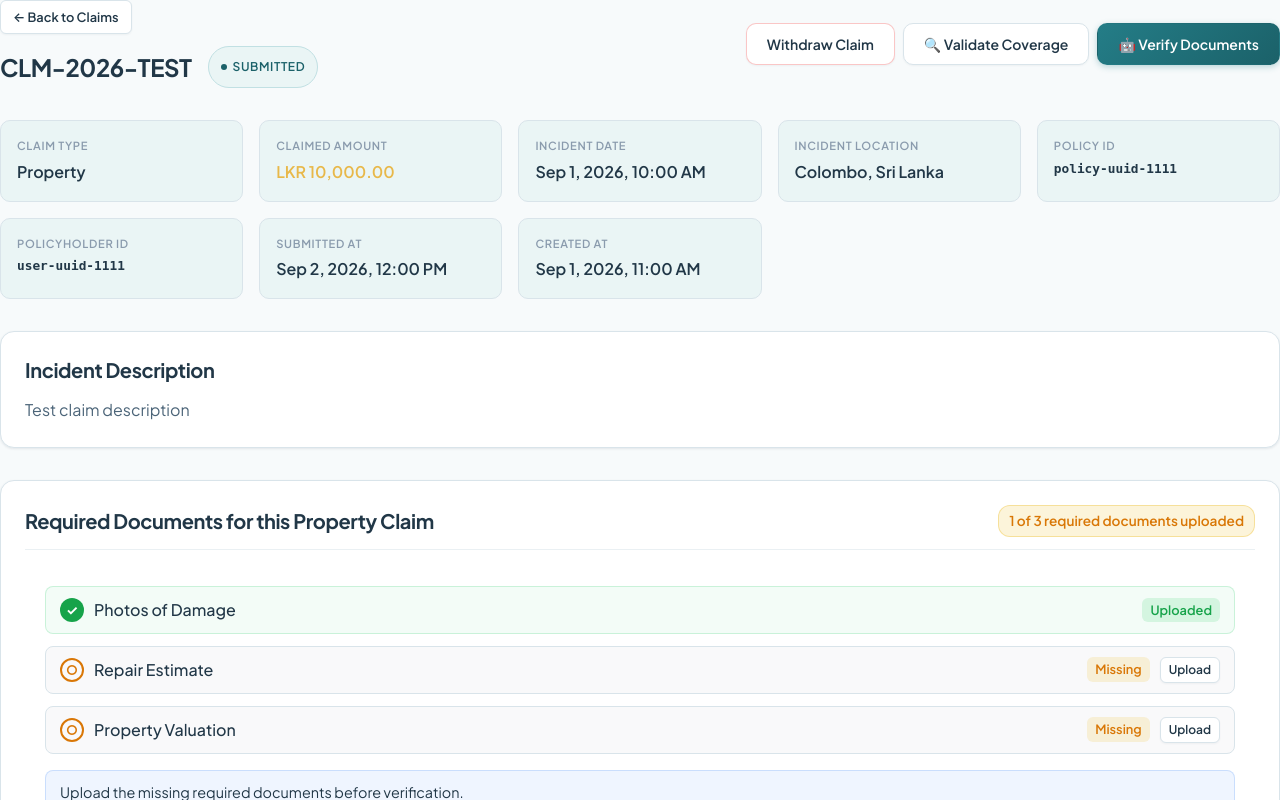
Claim Document Requirements Component Tests › 15. clicking quick upload action preselects document type in dropdown
Expected: the text "Repair Estimate" is shown, [94, 657, 213, 682]
What coordinates should you click on to do the following:
click the button with aria-label "Select Repair Estimate"
I would click on:
 (1190, 670)
Its box is [1160, 657, 1220, 683].
(page scrolled)
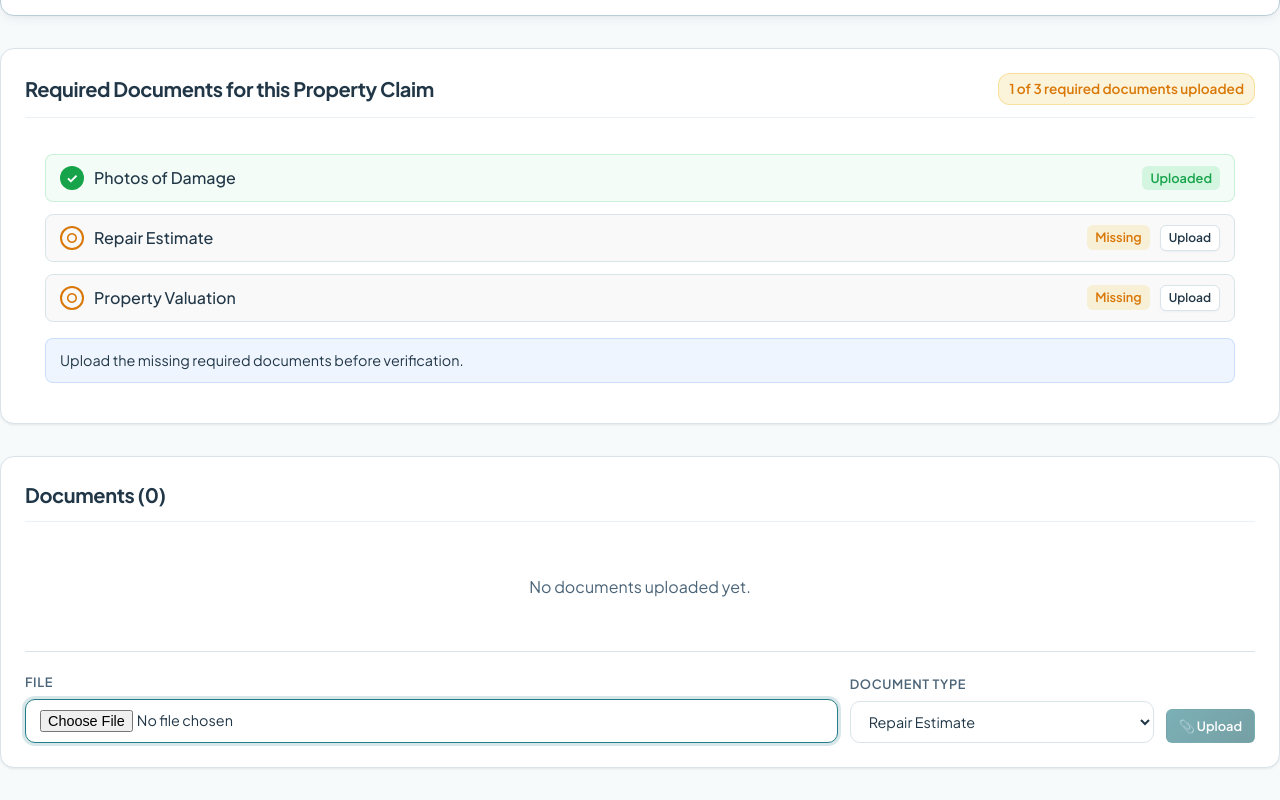
Now the dropdown with id "doc-type" shows "Repair Estimate", box [850, 701, 1154, 743]
